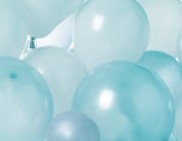Balloon: (75, 61, 182, 141), (72, 1, 151, 66), (1, 57, 50, 141), (51, 112, 100, 141)
